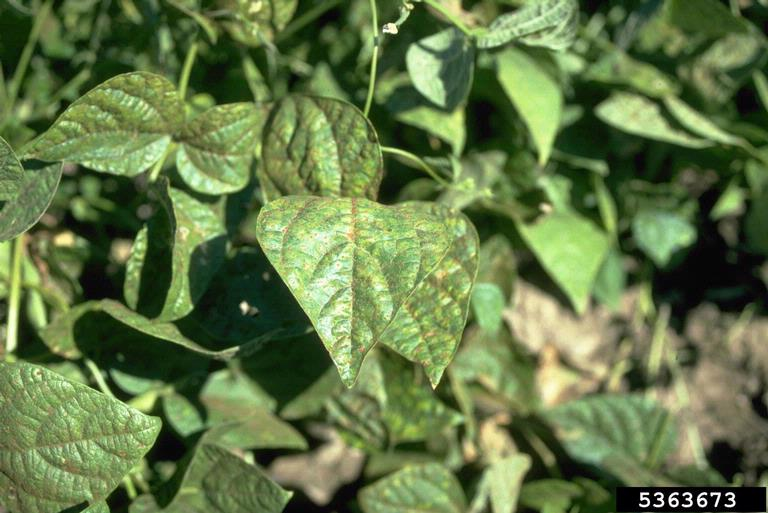StringBeans_BeanRust: (255, 190, 426, 376), (22, 71, 186, 173)
